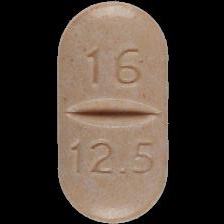60505-3758: (0, 0, 224, 224)
